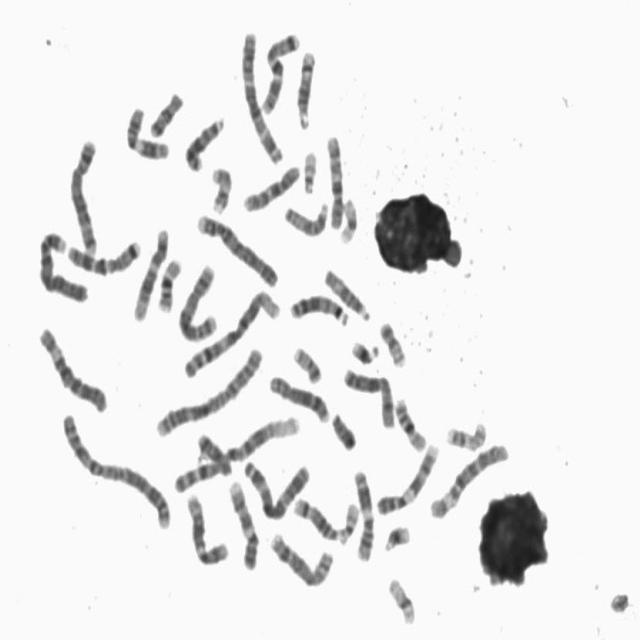A1: (167, 409, 302, 496), (180, 283, 282, 380)
A2: (56, 407, 174, 532), (152, 341, 265, 439)
A3: (237, 25, 285, 165), (239, 454, 312, 522)
B4: (192, 206, 280, 290), (34, 224, 90, 306)
B5: (65, 131, 100, 258), (174, 258, 220, 343)
C10: (239, 159, 302, 214), (322, 129, 346, 231)
C11: (122, 101, 171, 162), (349, 464, 376, 562)
C12: (129, 222, 171, 322), (183, 488, 230, 568)
C6: (425, 436, 511, 522), (34, 320, 109, 414)
C7: (257, 26, 302, 116), (62, 233, 142, 277)
C8: (266, 526, 336, 589), (265, 368, 331, 425)
C9: (372, 437, 441, 518), (225, 475, 260, 572)
D13: (180, 110, 227, 174), (286, 288, 351, 328)
D14: (290, 492, 342, 542), (292, 44, 317, 131)
D15: (320, 262, 372, 323), (280, 195, 330, 238)
E16: (390, 392, 429, 454), (154, 252, 183, 314)
E17: (442, 415, 488, 453), (207, 161, 234, 215)
E18: (145, 85, 185, 138), (194, 428, 234, 478)
F19: (383, 572, 418, 627), (336, 192, 360, 245)
F20: (376, 315, 408, 370), (289, 341, 323, 385)
G21: (380, 518, 411, 554), (348, 334, 380, 366)
G22: (335, 496, 360, 546), (299, 145, 319, 195)
X: (339, 362, 396, 431)
Y: (327, 406, 358, 452)
